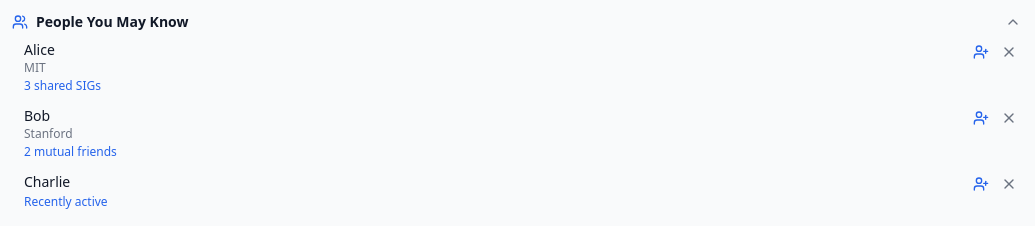
Test: FriendRecommendations › removes recommendation from list after successful friend request
This screenshot has width=1035, height=226.
Click the button titled "Add Friend" in the row of "Alice". click: [981, 52]
box: [969,40,993,64]
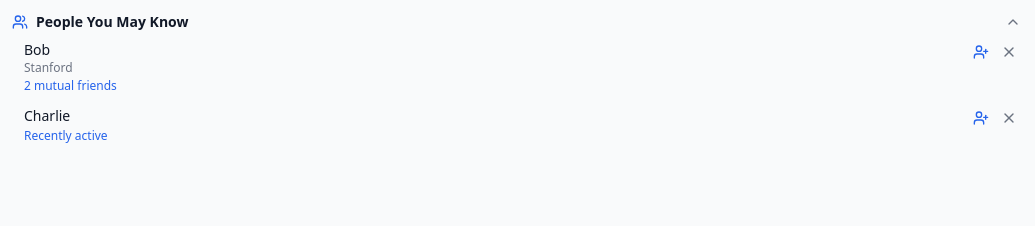
Result: the text "Alice" is gone
